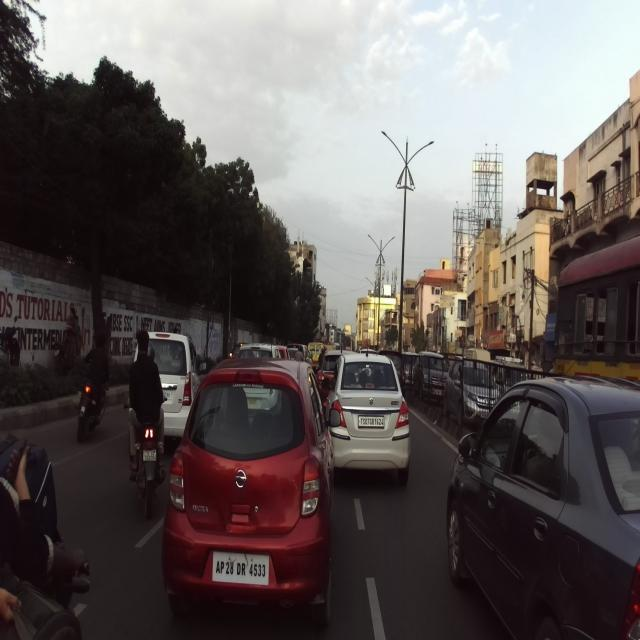car: (158, 355, 342, 637), (445, 380, 639, 638), (320, 345, 410, 485), (132, 330, 206, 450)
motorcycle: (123, 395, 167, 521), (74, 364, 112, 443)
